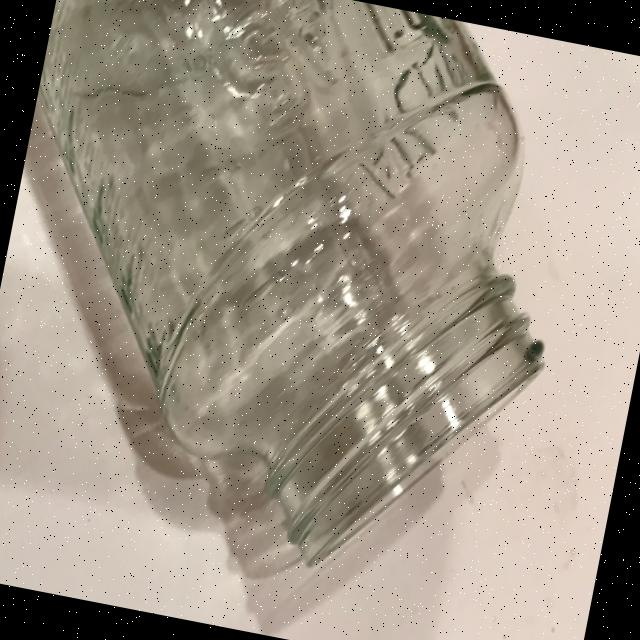glass: (0, 0, 606, 624)
